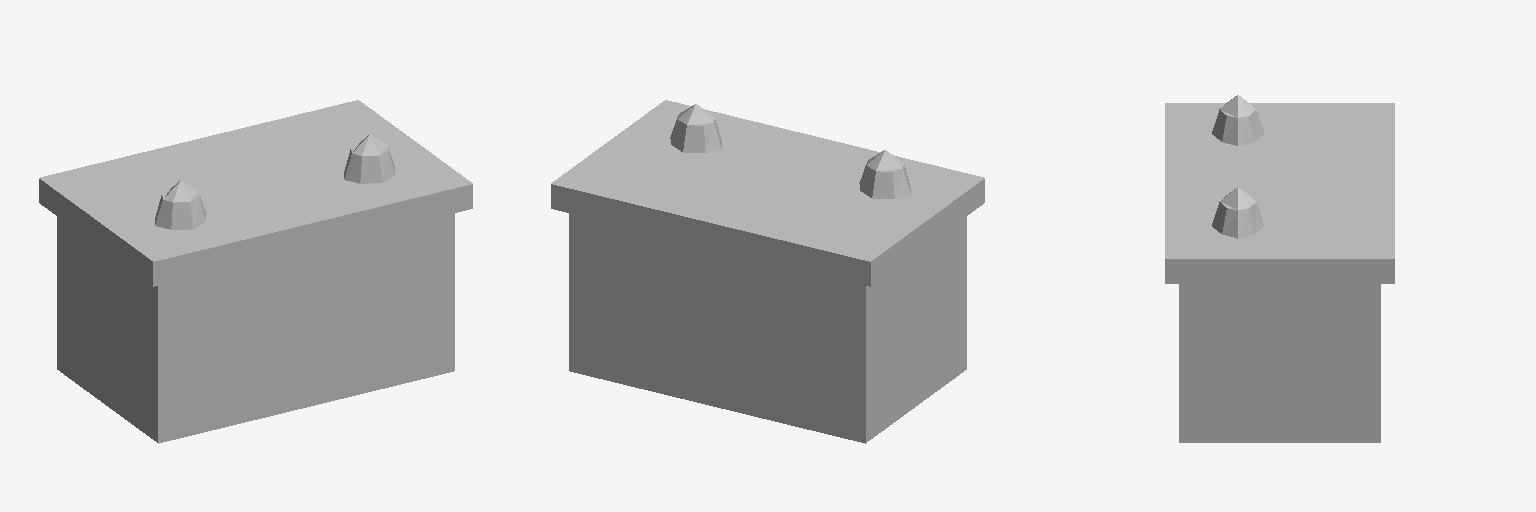
File: Bateria.obj
The picture shows the model from 3 angles: view 1: azimuth 30°, elevation 25°; view 2: azimuth 150°, elevation 25°; view 3: azimuth 270°, elevation 25°; orthographic projection.
Visible parts, largest first — view 1: pCube49 Bateria, Bateria pCube50, Bateria pCube51; view 2: pCube49 Bateria, Bateria pCube51, Bateria pCube50; view 3: pCube49 Bateria, Bateria pCube51, Bateria pCube50.
Part boxes in pixels (x1,y1,x2,y2): pCube49 Bateria: (39,100,472,443); Bateria pCube50: (155,180,205,229); Bateria pCube51: (344,134,394,183); pCube49 Bateria: (551,100,984,443); Bateria pCube51: (670,104,721,152); Bateria pCube50: (859,150,910,198); pCube49 Bateria: (1165,103,1394,442); Bateria pCube51: (1212,187,1263,238); Bateria pCube50: (1212,95,1264,145).
Bounding box in the file's own units: 29.78 × 20.36 × 18.53.